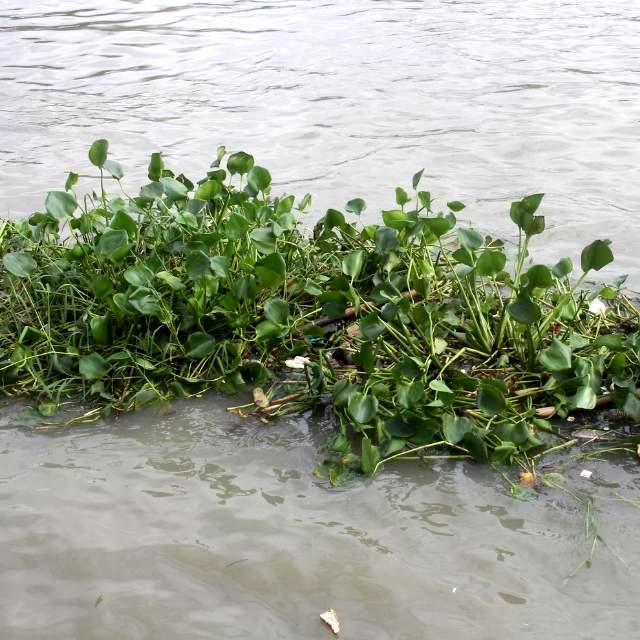water-hyacinth: (1, 138, 640, 450)
